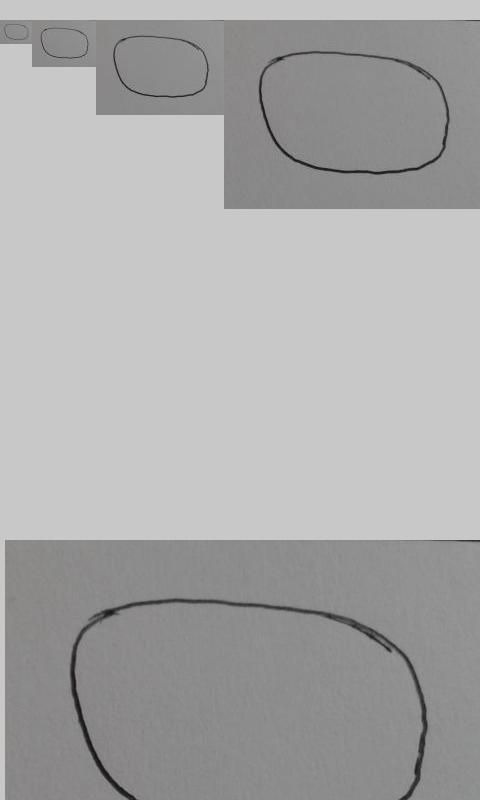chip: (71, 597, 430, 795), (259, 51, 450, 176), (112, 35, 210, 98), (40, 27, 89, 59), (3, 22, 30, 41)
